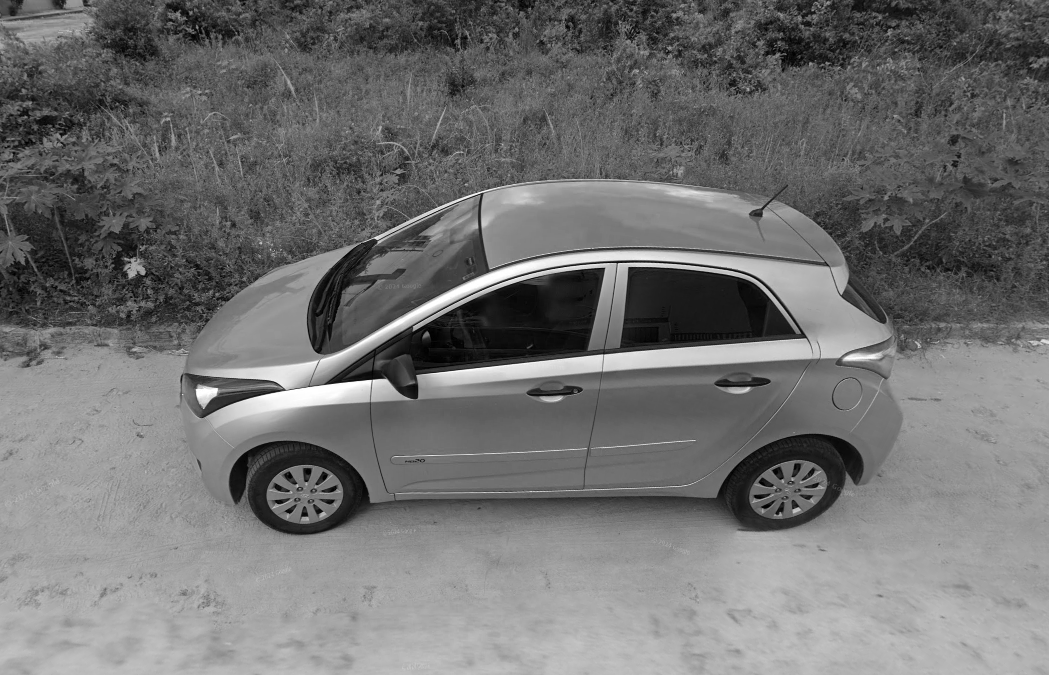car: (159, 172, 908, 545)
